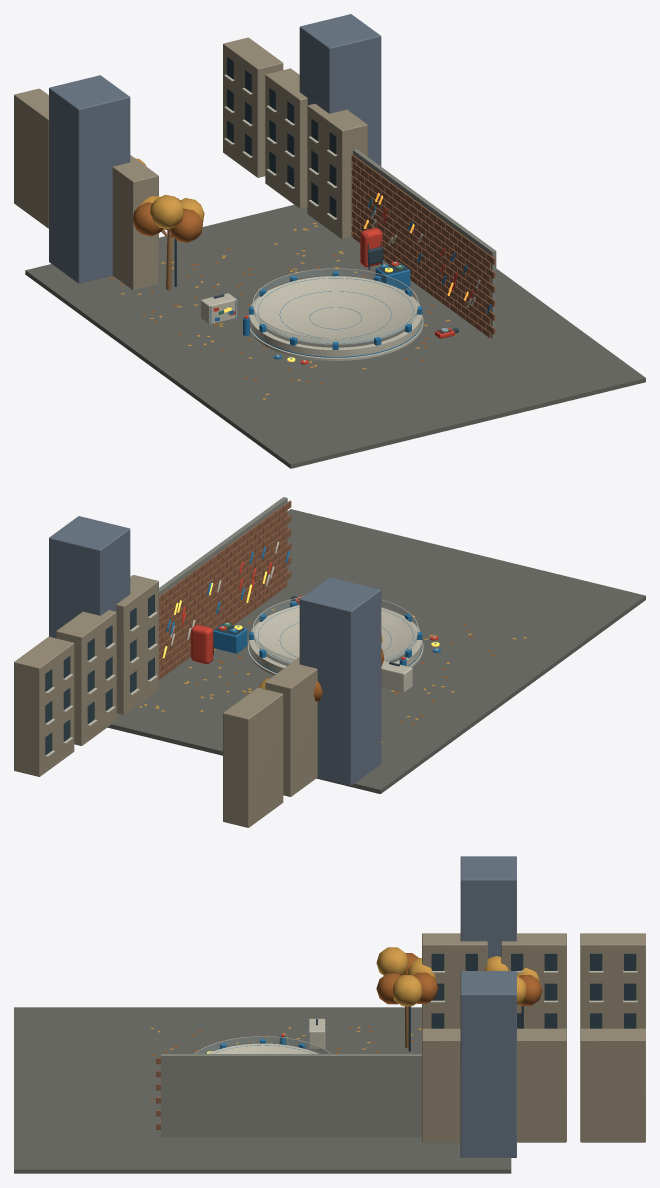
Rendered from street.glb.
3 views of the same model, one above another, from view 1: azimuth 30°, elevation 25°; view 2: azimuth 150°, elevation 25°; view 3: azimuth 270°, elevation 25° (orthographic). The views are drawn at different scales.
Visible parts, largest first — view 1: Worn_asphalt, Old_alley_plaster, Blue_grey_stone, Ivory_plastic.001, Terracotta_brick, Graphite.002, Cobalt_enamel.001, Mortar, Acrylic_guard.001, Autumn_copper, Autumn_ochre, Vermilion.001; view 2: Worn_asphalt, Old_alley_plaster, Blue_grey_stone, Terracotta_brick, Ivory_plastic.001, Graphite.002, Cobalt_enamel.001, Mortar, Vermilion.001, Acrylic_guard.001; view 3: Worn_asphalt, Old_alley_plaster, Mortar, Blue_grey_stone, Graphite.002, Autumn_ochre, Ivory_plastic.001, Autumn_copper, Acrylic_guard.001.
Boxes of the visible parts, <box> form: Worn_asphalt: <box>25,204,645,468</box>; Old_alley_plaster: <box>14,37,367,290</box>; Blue_grey_stone: <box>49,14,381,283</box>; Ivory_plastic.001: <box>200,74,480,361</box>; Terracotta_brick: <box>351,154,495,337</box>; Graphite.002: <box>174,56,458,333</box>; Cobalt_enamel.001: <box>214,198,491,359</box>; Mortar: <box>156,149,498,408</box>; Acrylic_guard.001: <box>253,269,417,344</box>; Autumn_copper: <box>110,198,456,384</box>; Autumn_ochre: <box>121,158,449,399</box>; Vermilion.001: <box>213,207,473,364</box>; Worn_asphalt: <box>107,509,645,793</box>; Old_alley_plaster: <box>14,575,317,827</box>; Blue_grey_stone: <box>49,516,381,785</box>; Terracotta_brick: <box>159,500,291,679</box>; Ivory_plastic.001: <box>44,541,438,757</box>; Graphite.002: <box>45,594,399,755</box>; Cobalt_enamel.001: <box>166,546,440,673</box>; Mortar: <box>159,497,536,720</box>; Vermilion.001: <box>181,562,438,664</box>; Acrylic_guard.001: <box>253,598,417,663</box>; Worn_asphalt: <box>14,1007,511,1173</box>; Old_alley_plaster: <box>422,933,645,1142</box>; Mortar: <box>118,1026,421,1137</box>; Blue_grey_stone: <box>460,856,516,1157</box>; Graphite.002: <box>316,953,636,1051</box>; Autumn_ochre: <box>150,947,539,1049</box>; Ivory_plastic.001: <box>194,970,637,1053</box>; Autumn_copper: <box>150,953,542,1101</box>; Acrylic_guard.001: <box>196,1037,329,1053</box>.
Bounding box in the file's own units: 34 × 16.34 × 55.9.
